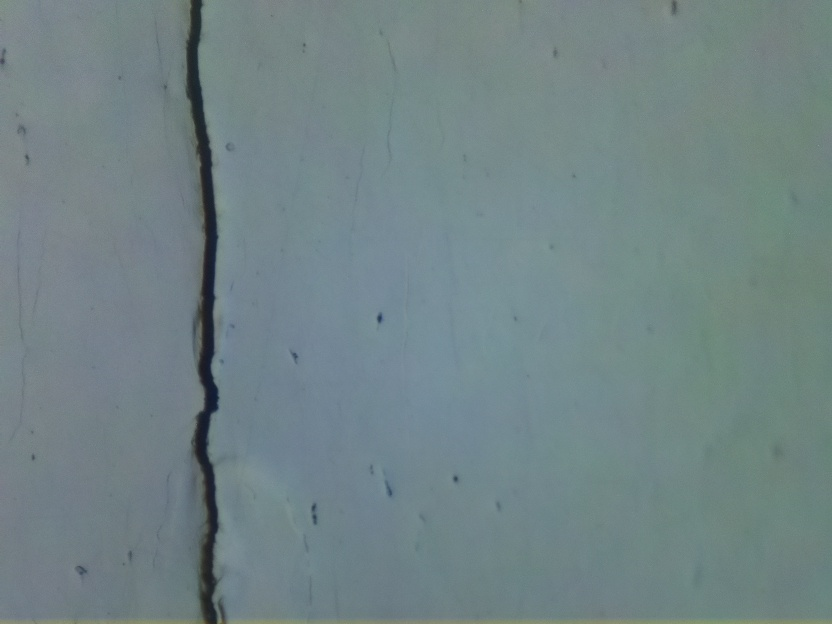crack: (183, 2, 225, 624)
